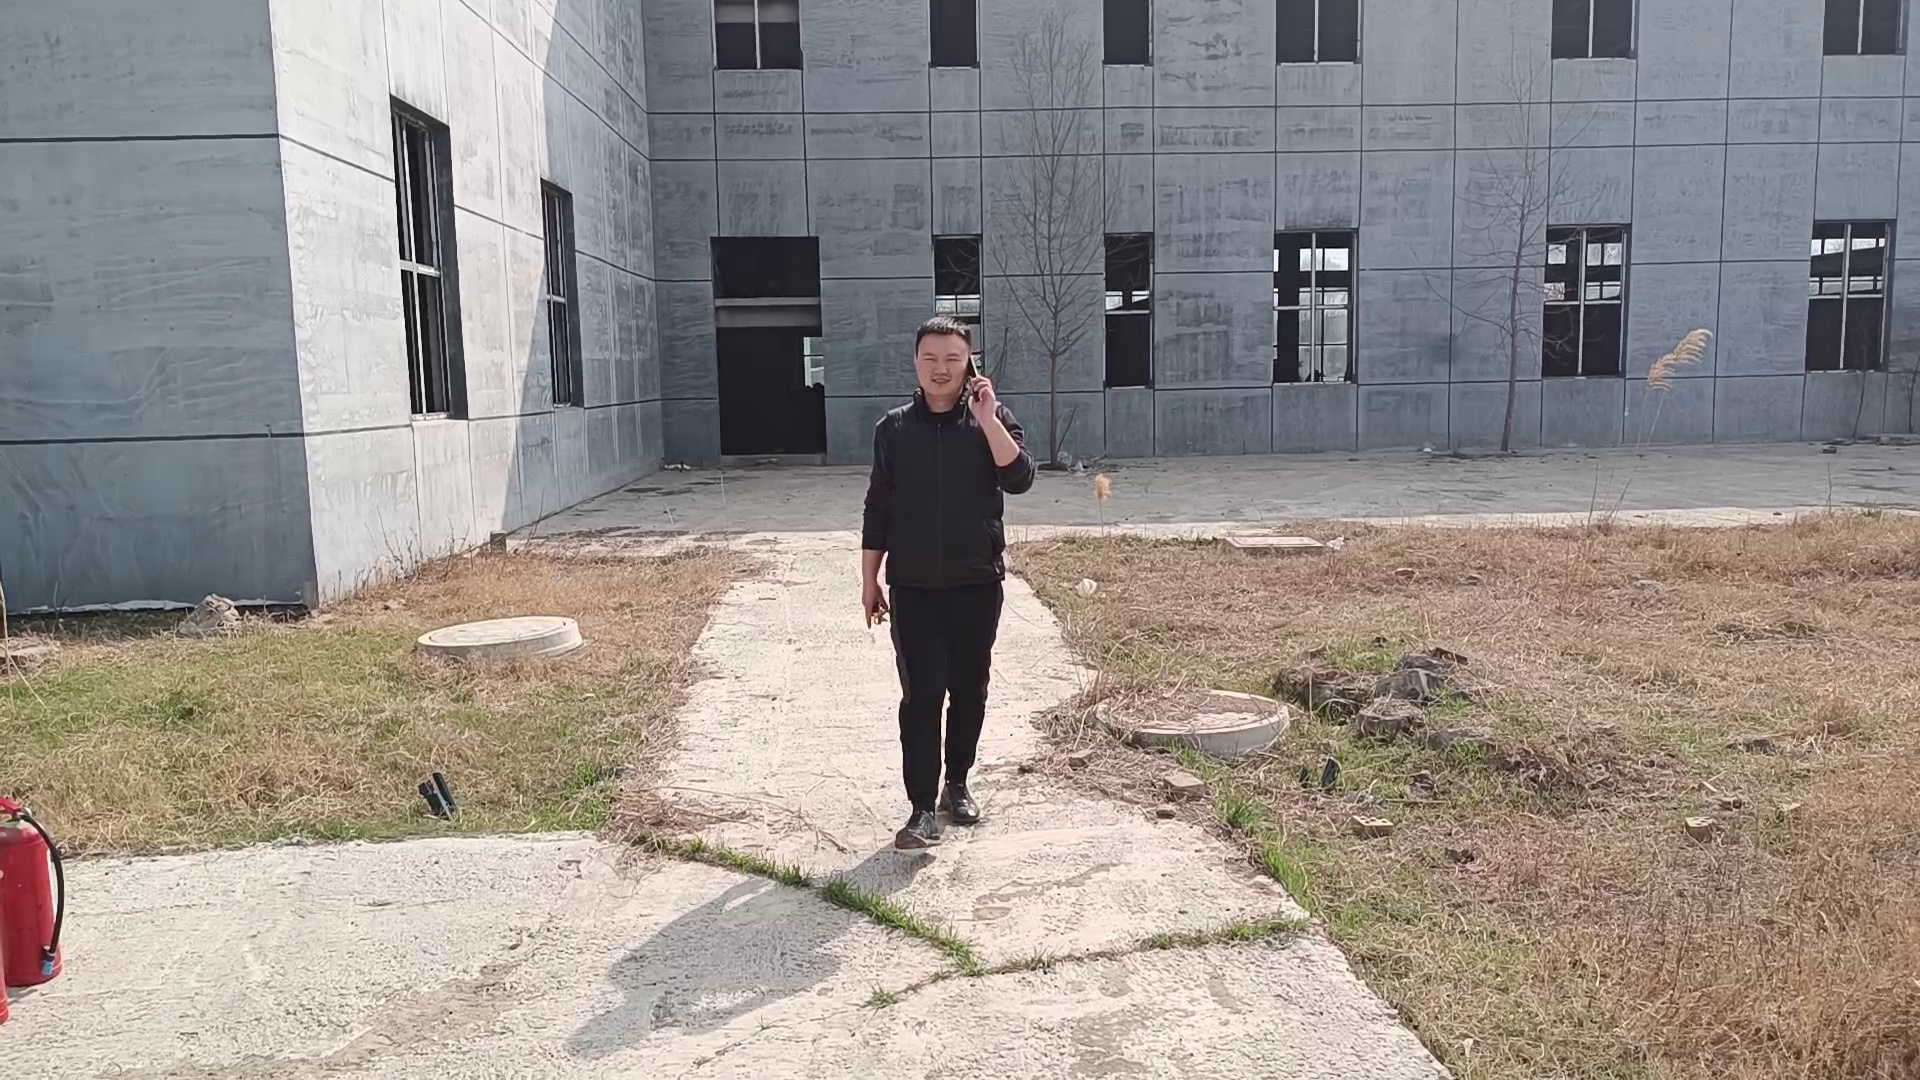phone: (915, 316, 992, 423)
